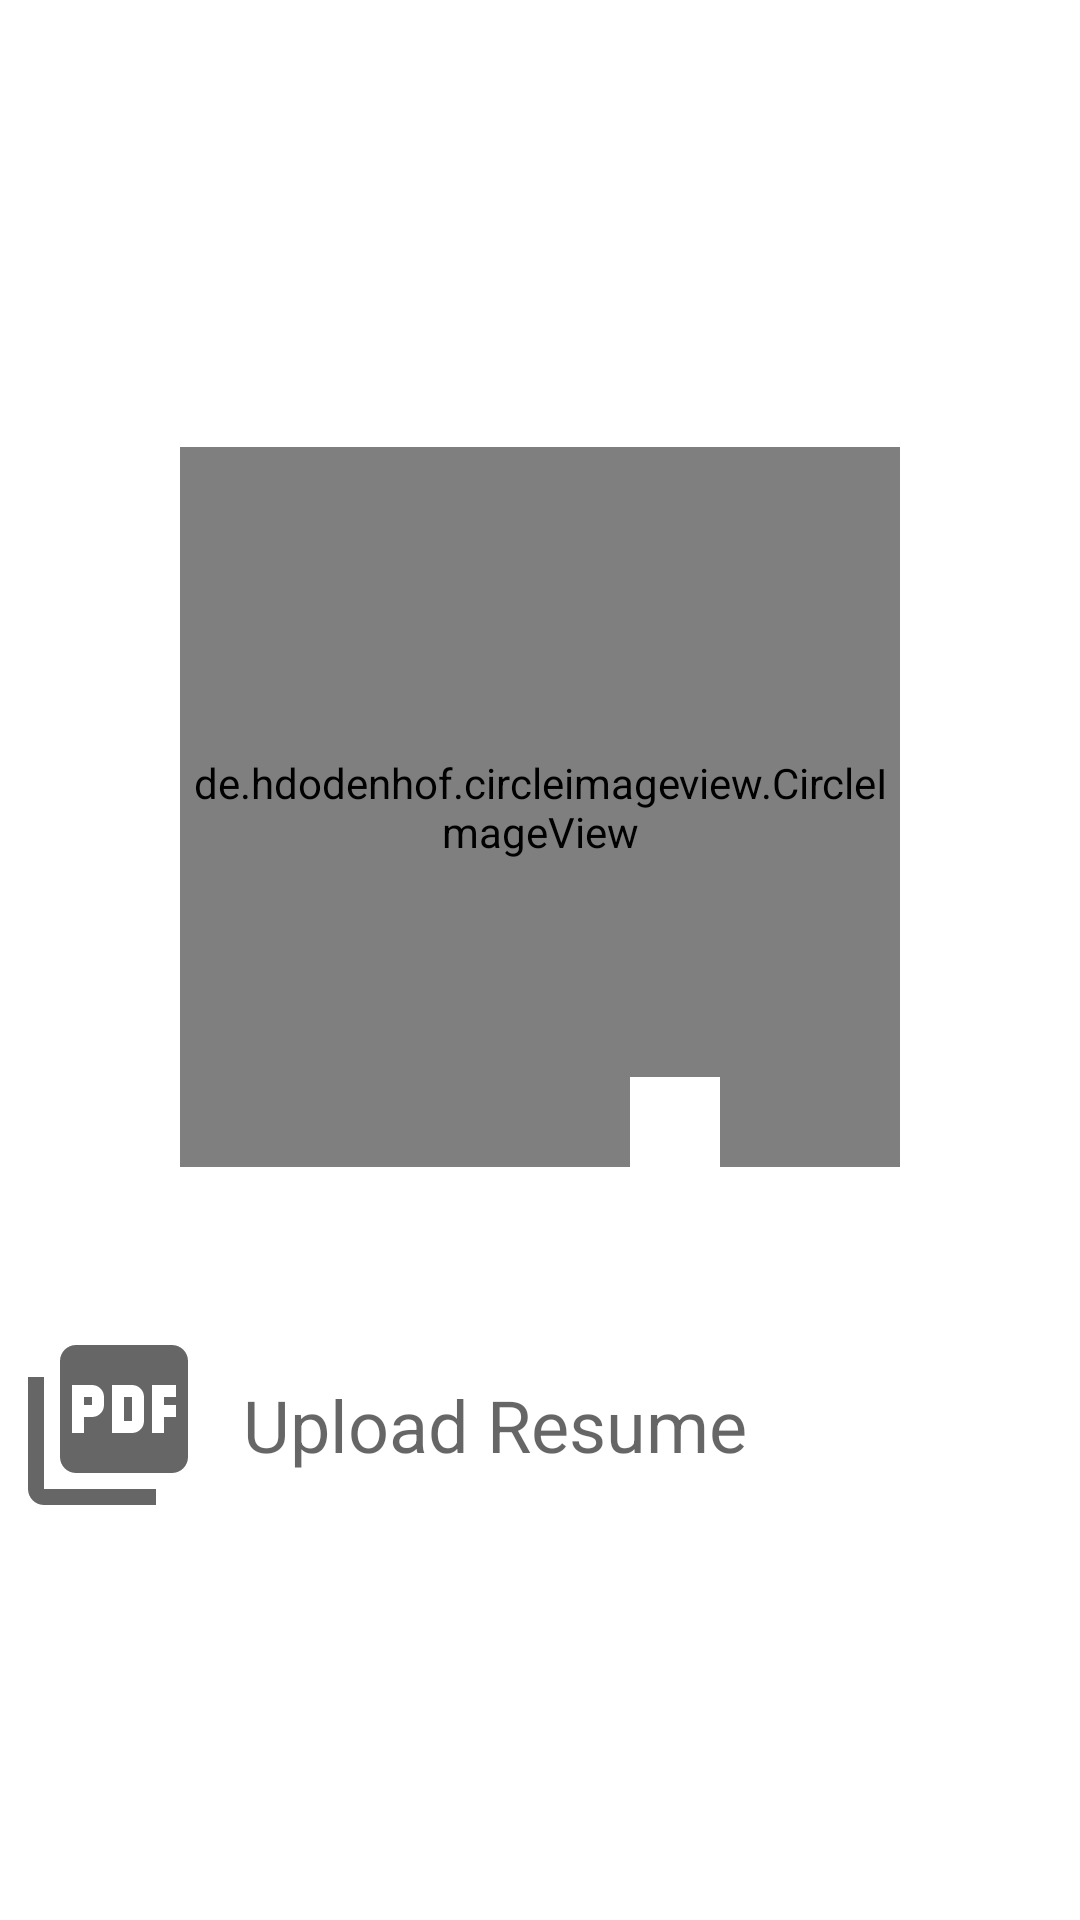

Where to tap for icons on this 1080*1920 app screen, as (x=x, y=y):
picture as pdf: (x=108, y=1425)
